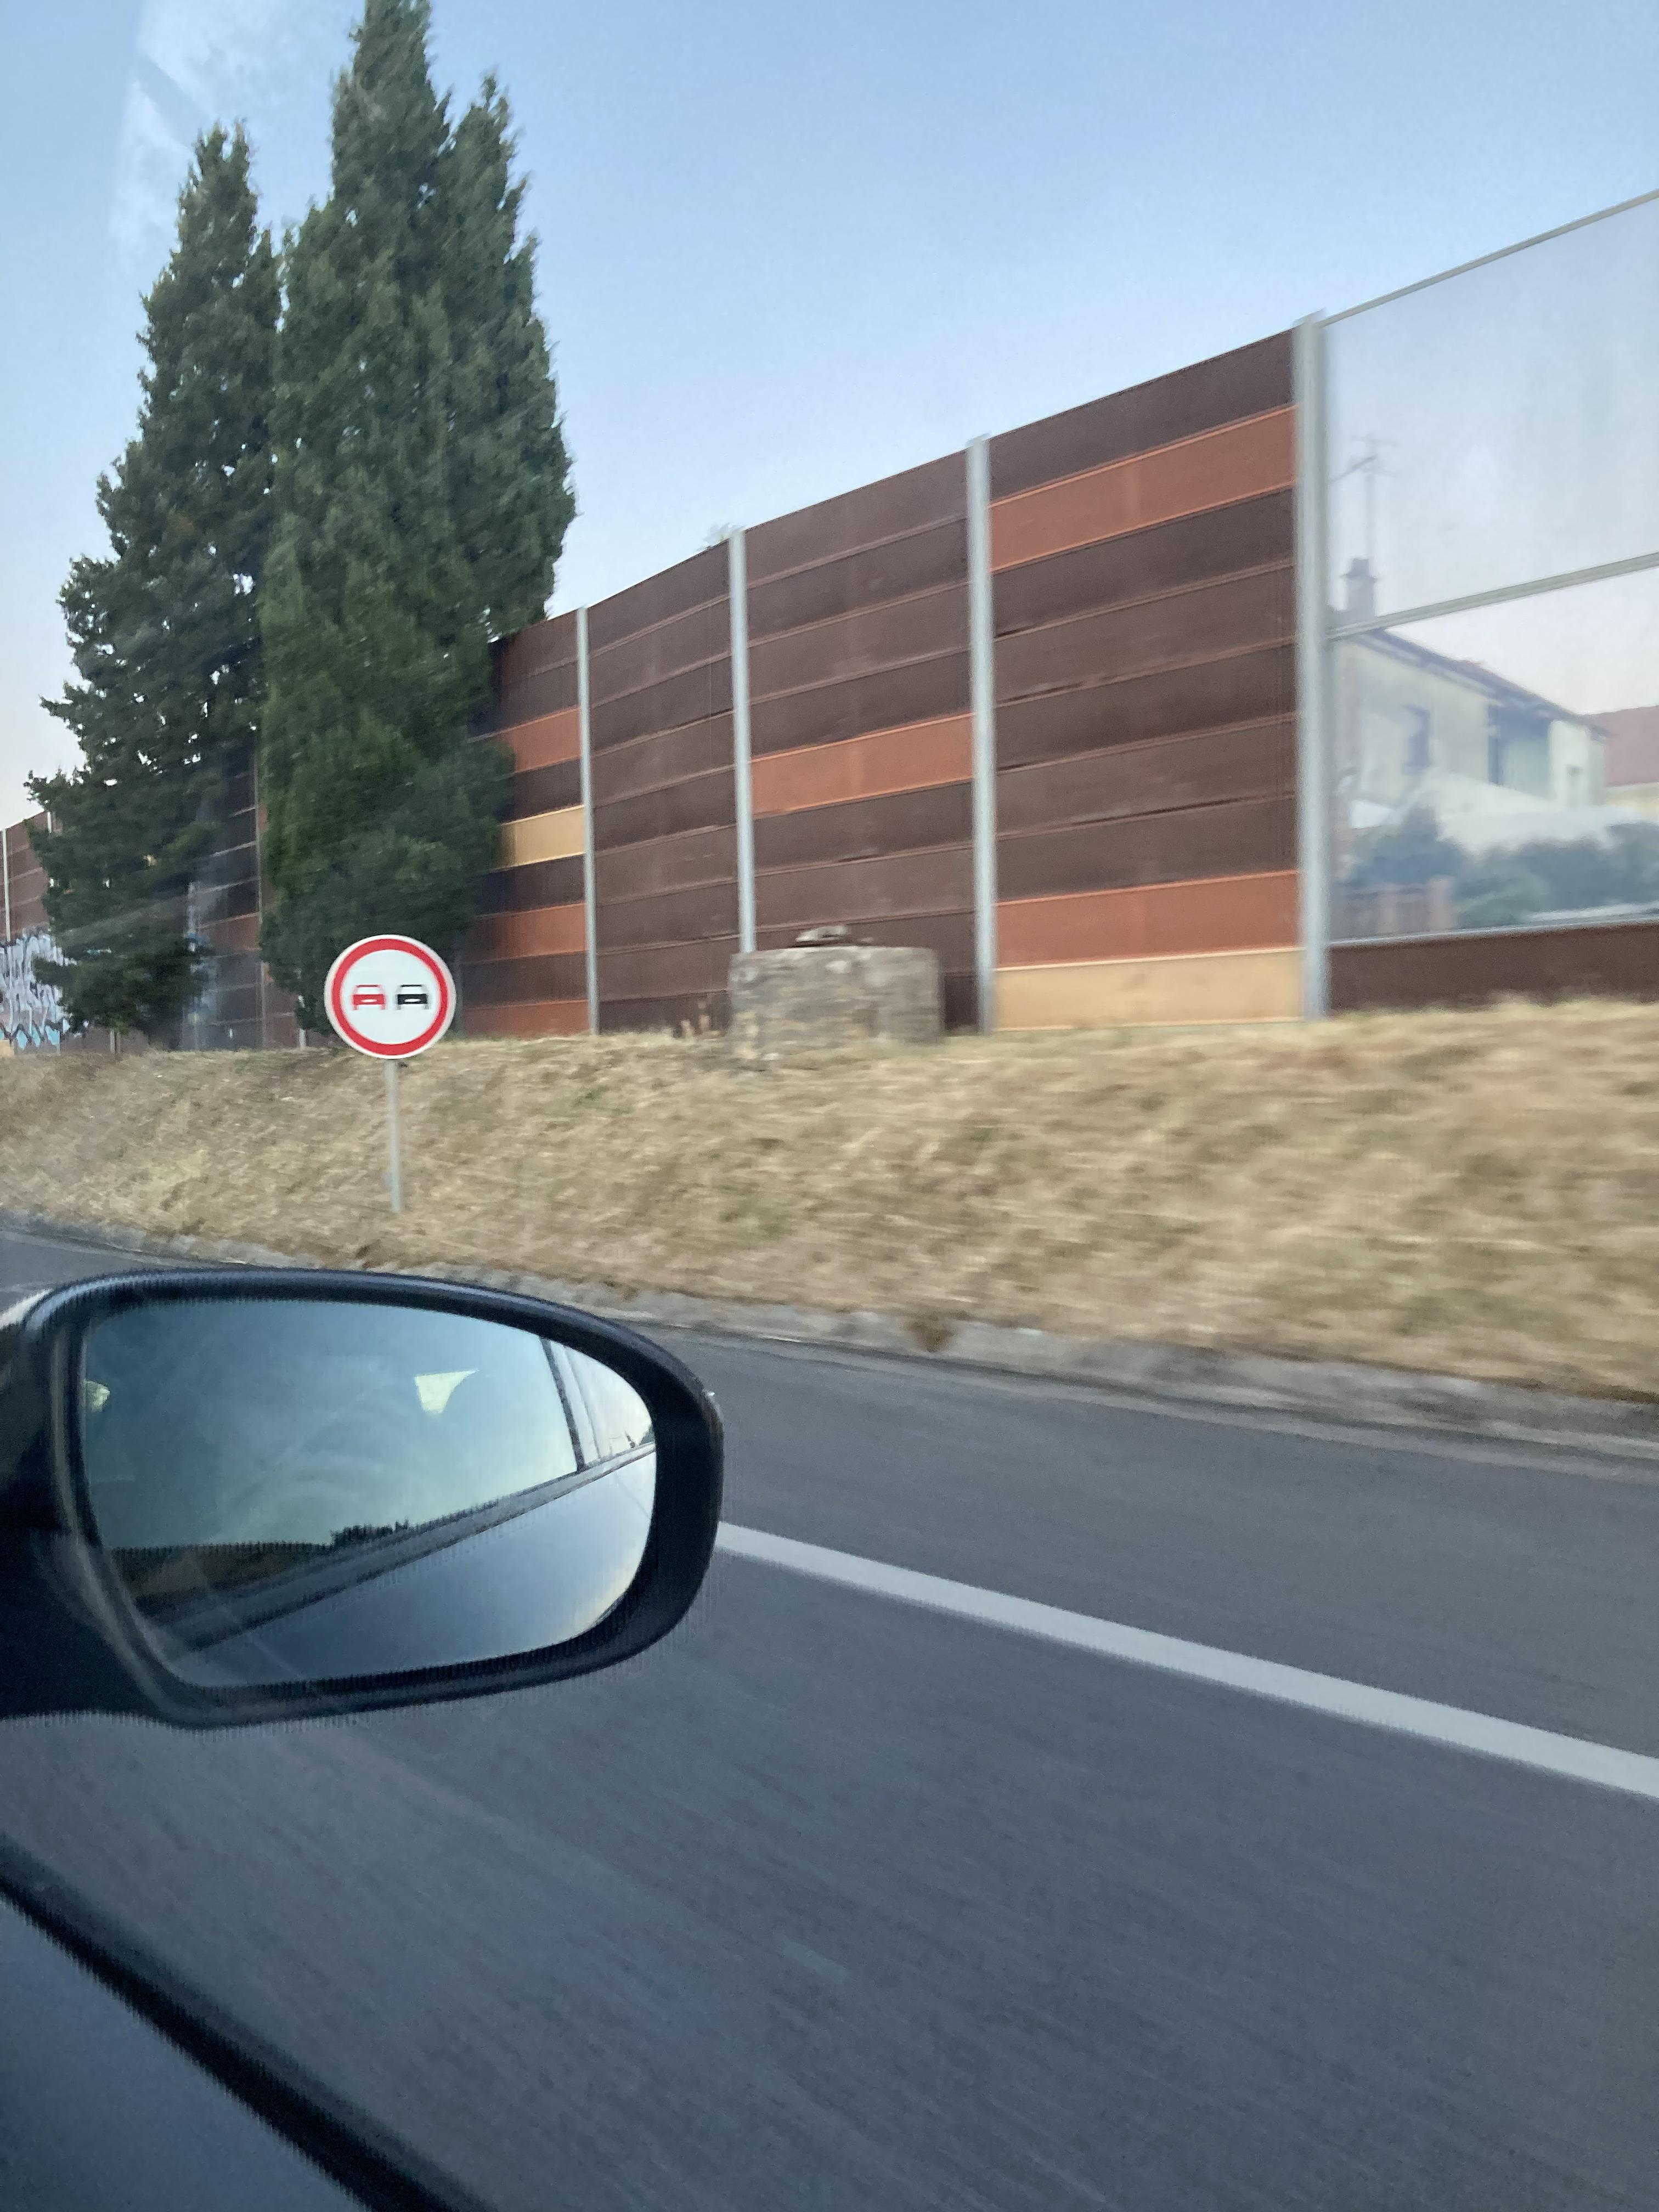proibido ultrapassar: (324, 939, 450, 1069)
